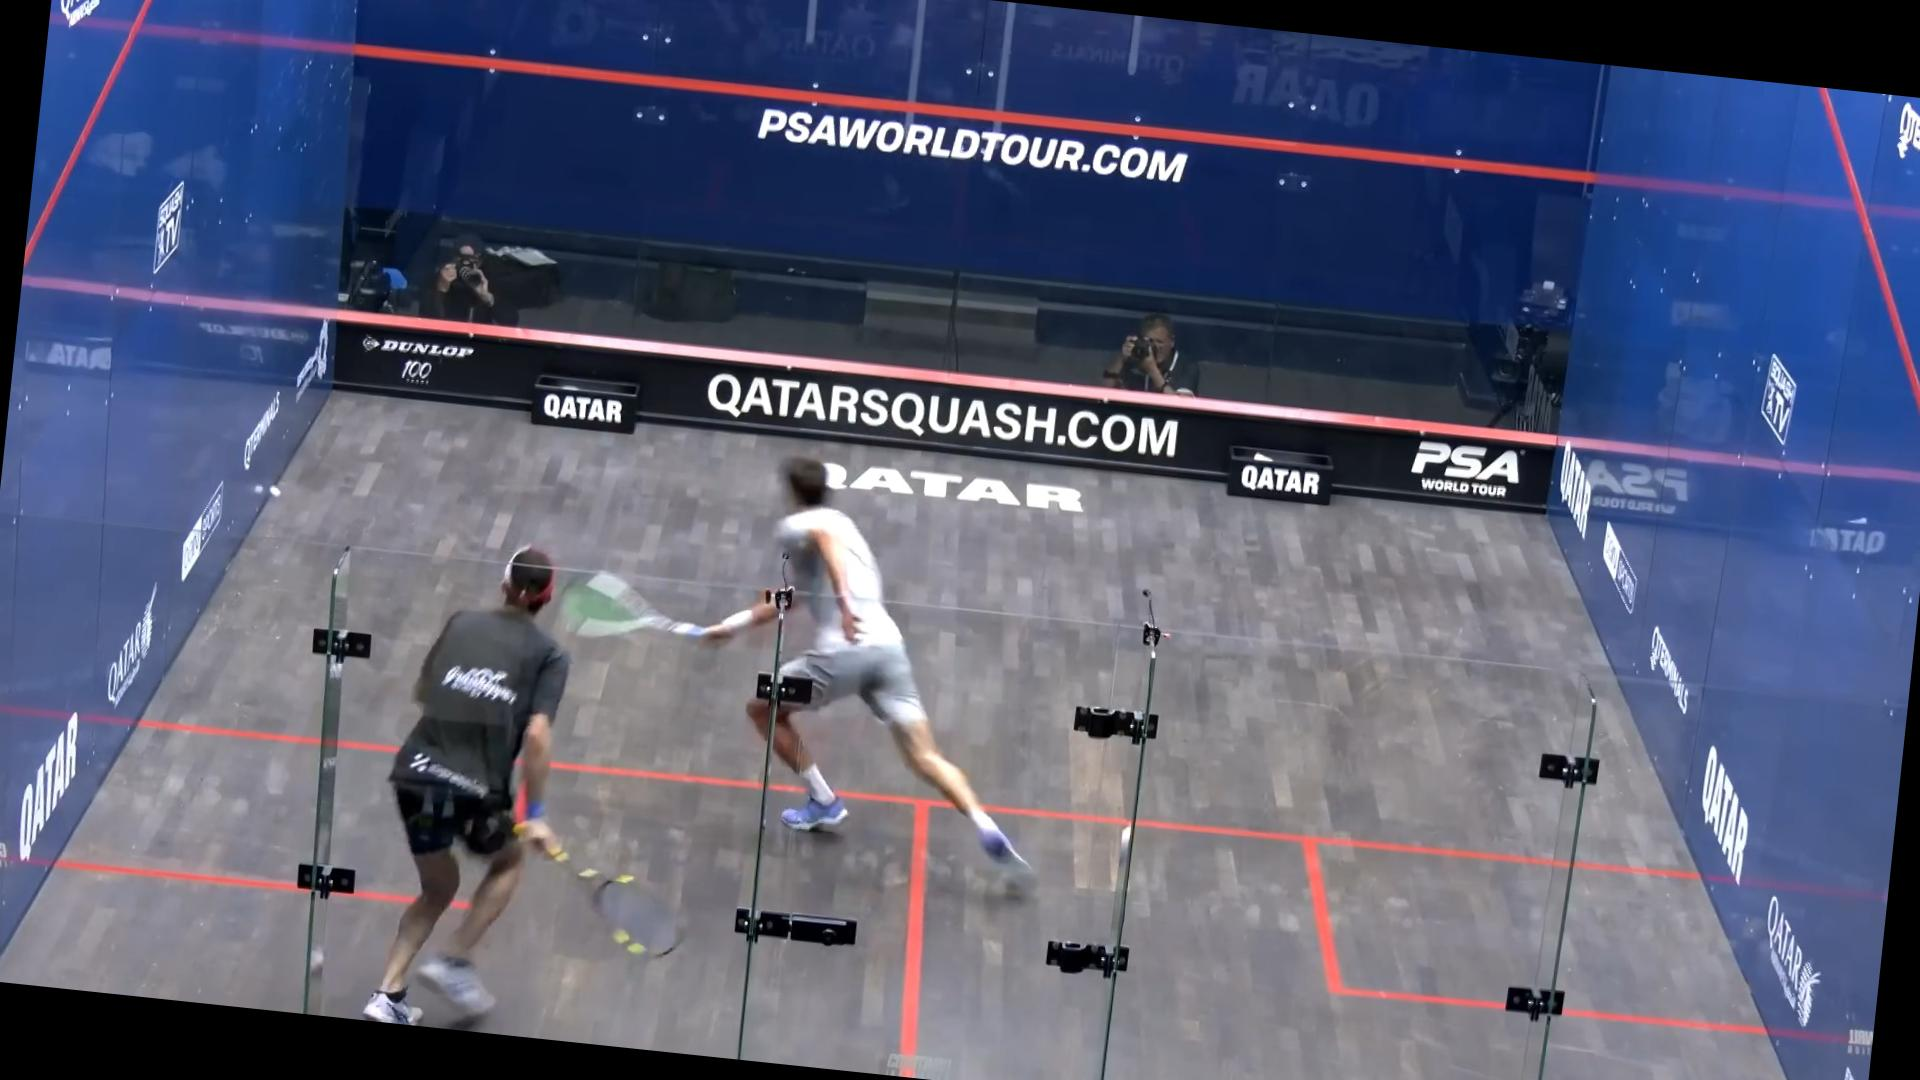Racket: (541, 833, 703, 976), (564, 562, 719, 665)
